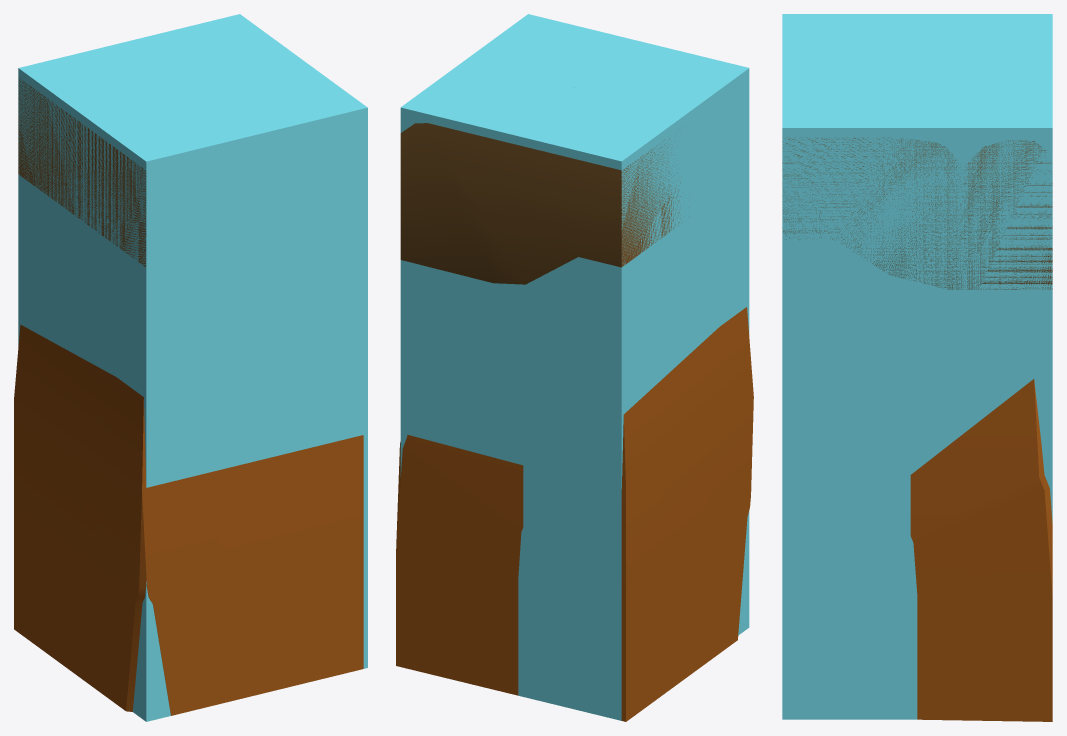
File: PBOX1_Mud_03.FBX
3 views of the same model, side by side, from view 1: azimuth 30°, elevation 25°; view 2: azimuth 150°, elevation 25°; view 3: azimuth 270°, elevation 25° (orthographic). The views are drawn at different scales.
Parts seen in each view (by area): view 1: PBOX1_Mud_03, PBOX1_SUB_TAB_MUD_005, PBOX1_SUB_Mud_03; view 2: PBOX1_Mud_03, PBOX1_SUB_TAB_MUD_005, PBOX1_SUB_Mud_03; view 3: PBOX1_Mud_03, PBOX1_SUB_TAB_MUD_005, PBOX1_SUB_Mud_03.
Part boxes in pixels (<box>): PBOX1_Mud_03: <box>18,14,367,721</box>; PBOX1_SUB_TAB_MUD_005: <box>14,324,363,715</box>; PBOX1_SUB_Mud_03: <box>18,78,146,266</box>; PBOX1_Mud_03: <box>400,14,749,720</box>; PBOX1_SUB_TAB_MUD_005: <box>396,307,753,721</box>; PBOX1_SUB_Mud_03: <box>400,87,689,284</box>; PBOX1_Mud_03: <box>782,14,1052,719</box>; PBOX1_SUB_TAB_MUD_005: <box>910,379,1052,721</box>; PBOX1_SUB_Mud_03: <box>782,137,1052,289</box>.
Bounding box in the file's own units: 6.24 × 14.5 × 6.01.
